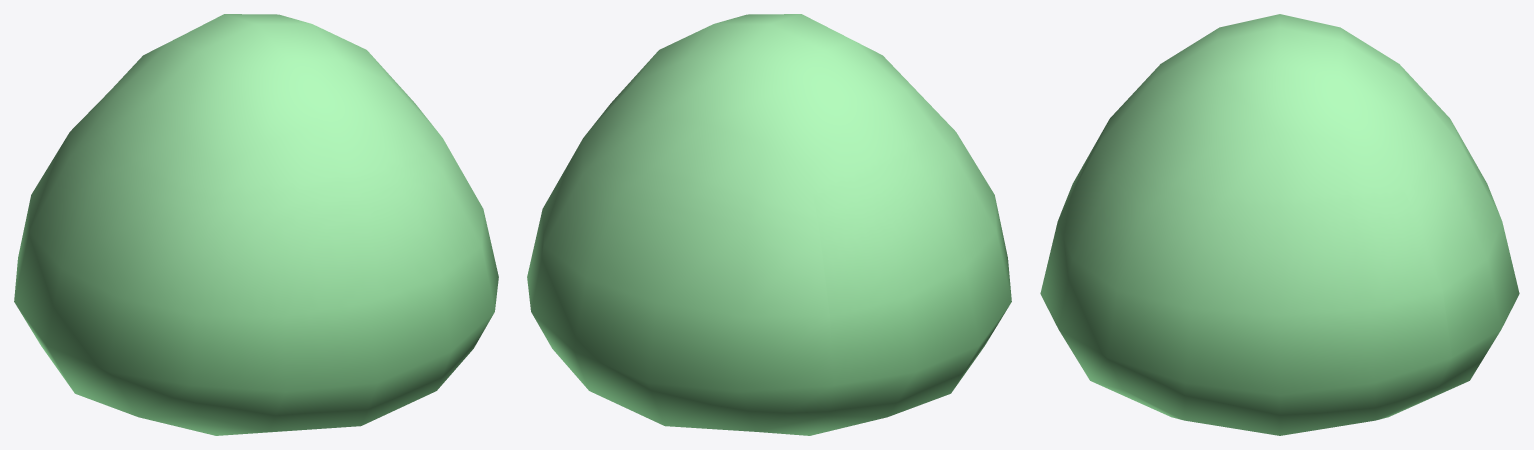
Rendered from slim01.fbx.
The picture shows the model from 3 angles, left to right: view 1: azimuth 30°, elevation 25°; view 2: azimuth 150°, elevation 25°; view 3: azimuth 270°, elevation 25°; orthographic projection.
Parts seen in each view (by area): view 1: slim01; view 2: slim01; view 3: slim01.
Boxes of the visible parts, <box> form: slim01: <box>14,14,498,435</box>; slim01: <box>527,14,1011,435</box>; slim01: <box>1040,14,1519,435</box>.
Size of the model in its own units: 116 by 97.19 by 116.
